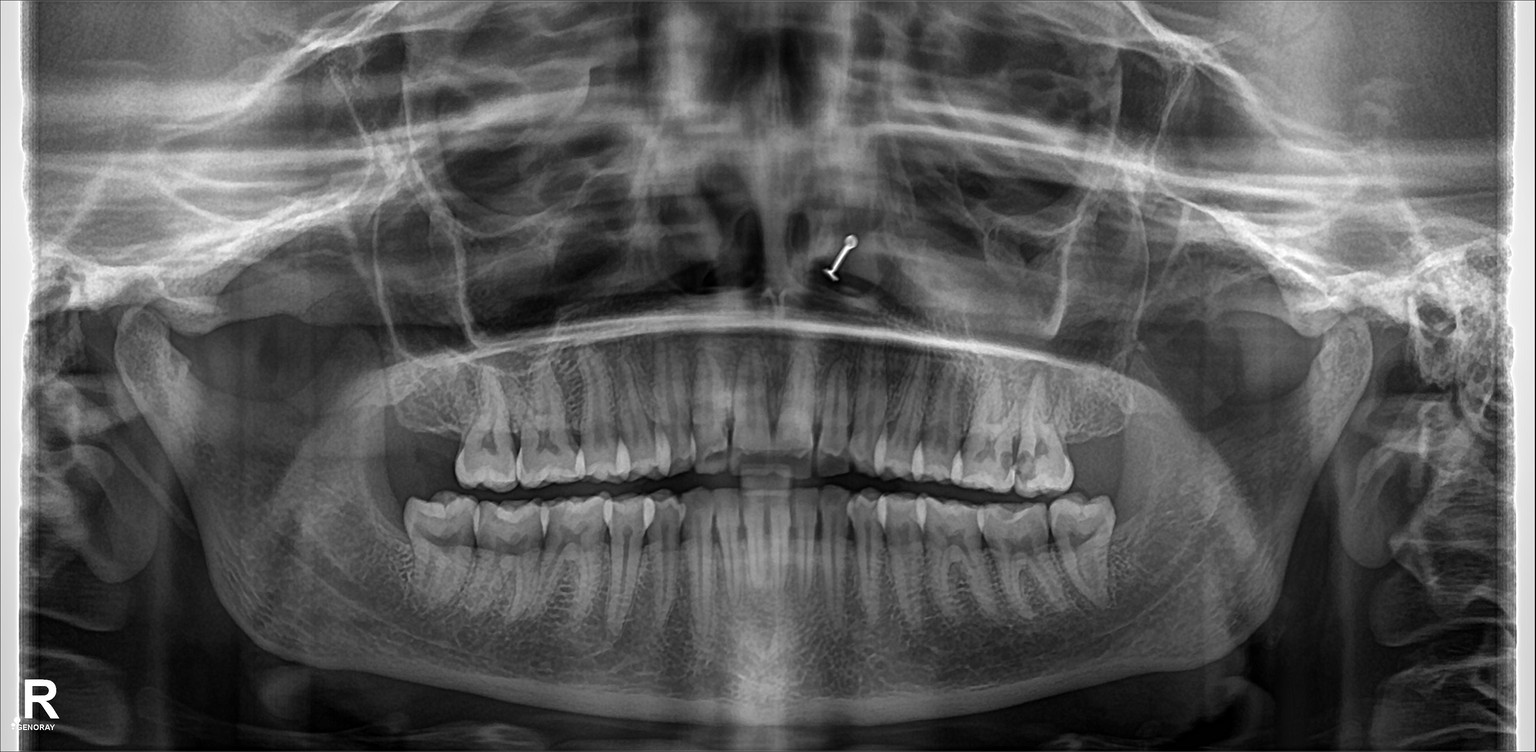Missing Tooth: (382, 374, 450, 483), (1065, 382, 1125, 490)
